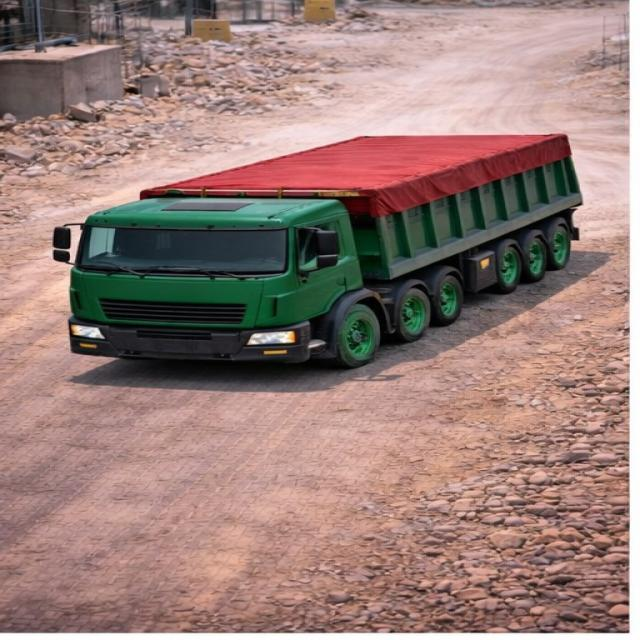Box: (141, 132, 570, 192)
Truck: (44, 108, 604, 374)
